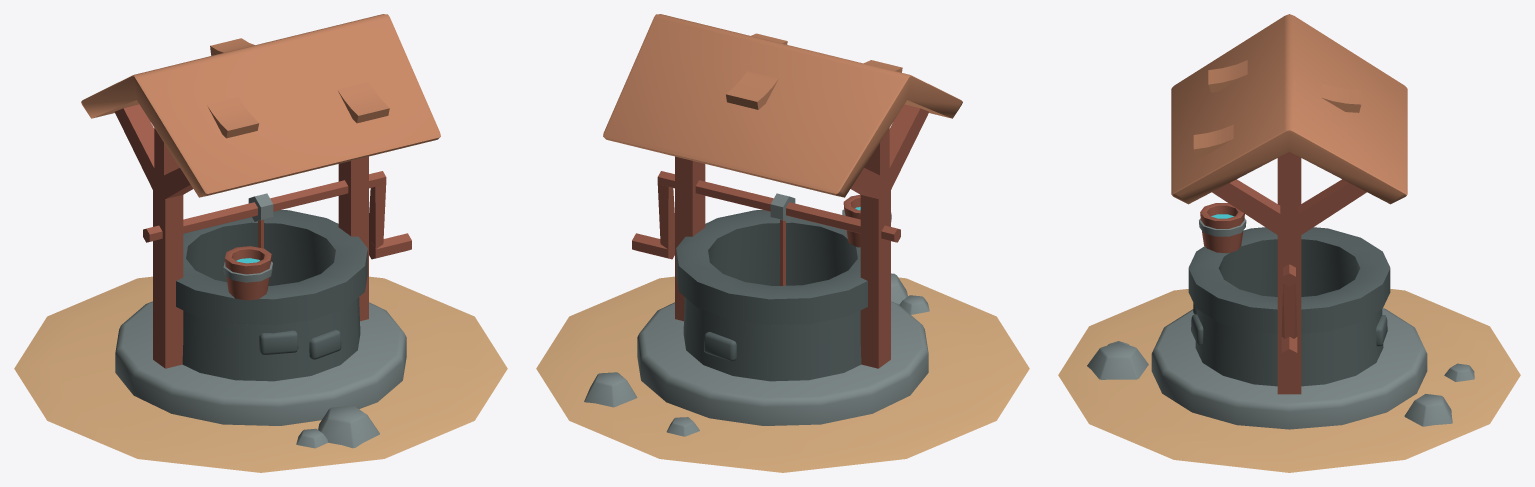
File: kaykit-well.glb
3 views of the same model, side by side, from view 1: azimuth 30°, elevation 25°; view 2: azimuth 150°, elevation 25°; view 3: azimuth 270°, elevation 25° (orthographic). The views are drawn at different scales.
Visible parts, largest first — view 1: well; view 2: well; view 3: well.
Boxes of the visible parts, x1,y1,x2,y2 form: well: [14, 14, 507, 472]; well: [536, 14, 1029, 472]; well: [1058, 14, 1520, 472].
Size of the model in its own units: 1.02 by 0.7366 by 1.02.
3 materials, 3 textured.
